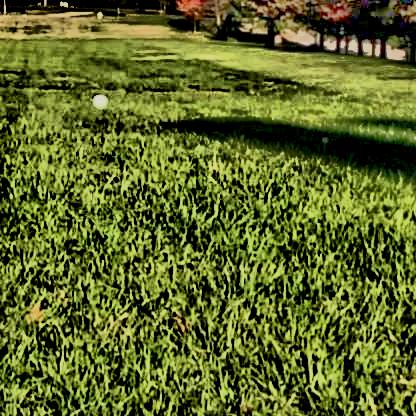golfball: (91, 92, 106, 106)
